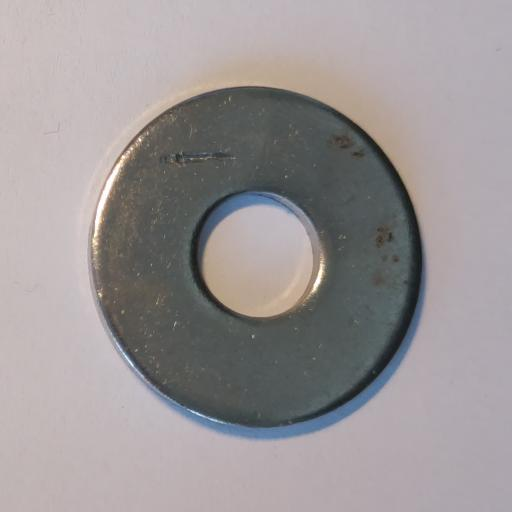scratch: (159, 152, 236, 168)
